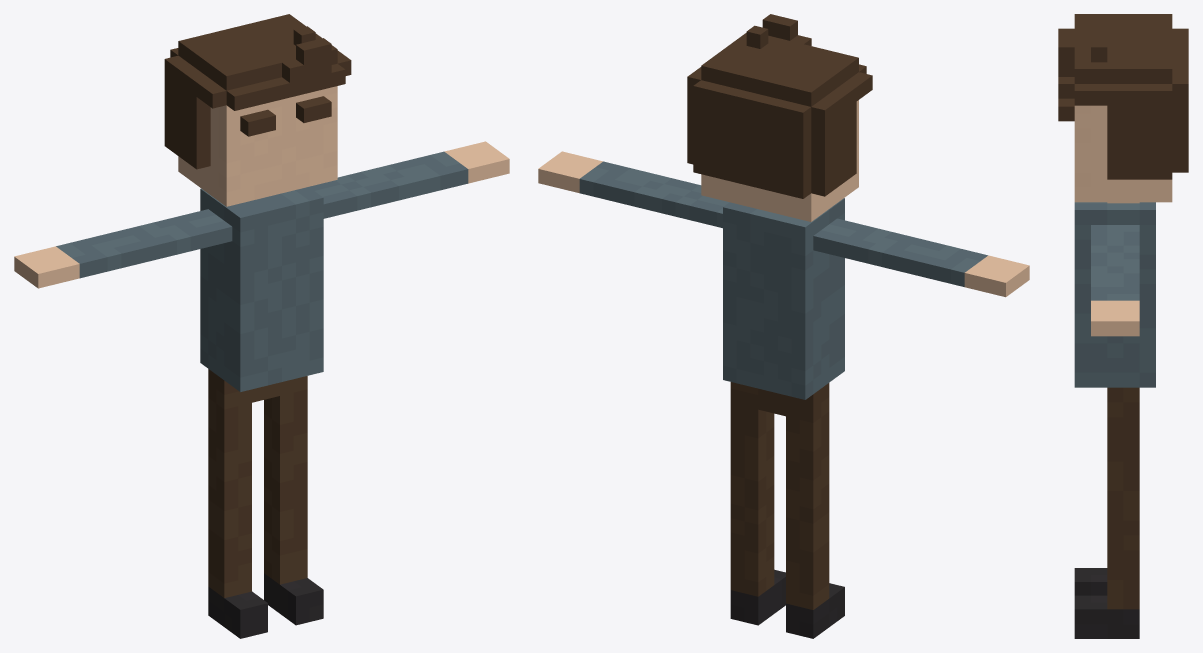
The model's file is character.obj.
The picture shows the model from 3 angles, left to right: view 1: azimuth 30°, elevation 25°; view 2: azimuth 150°, elevation 25°; view 3: azimuth 270°, elevation 25°; orthographic projection. The views are drawn at different scales.
Bounding box in the file's own units: 3.4 × 4 × 0.8.
Materials: 1 (1 with a texture image).
